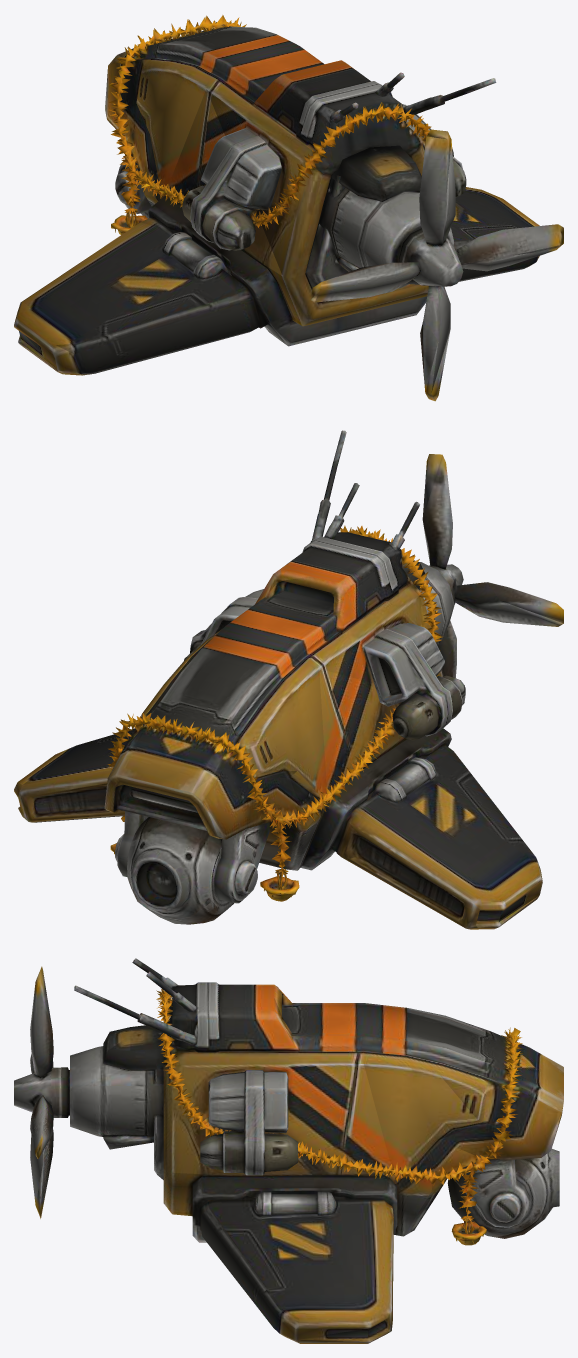
Rendered from orlan10.glb.
3 views of the same model, one above another, from view 1: azimuth 30°, elevation 25°; view 2: azimuth 150°, elevation 25°; view 3: azimuth 270°, elevation 25° (orthographic). The views are drawn at different scales.
Visible parts, largest first — view 1: Body, Trim; view 2: Body, Trim; view 3: Body, Trim.
Part boxes in pixels (<box>): Body: <box>19,26,559,392</box>; Trim: <box>14,15,563,401</box>; Body: <box>18,430,563,928</box>; Trim: <box>14,454,563,929</box>; Body: <box>14,958,563,1343</box>; Trim: <box>30,966,563,1343</box>.
Size of the model in its own units: 1.62 by 0.9747 by 1.7.
Materials: 2 (2 with a texture image).
